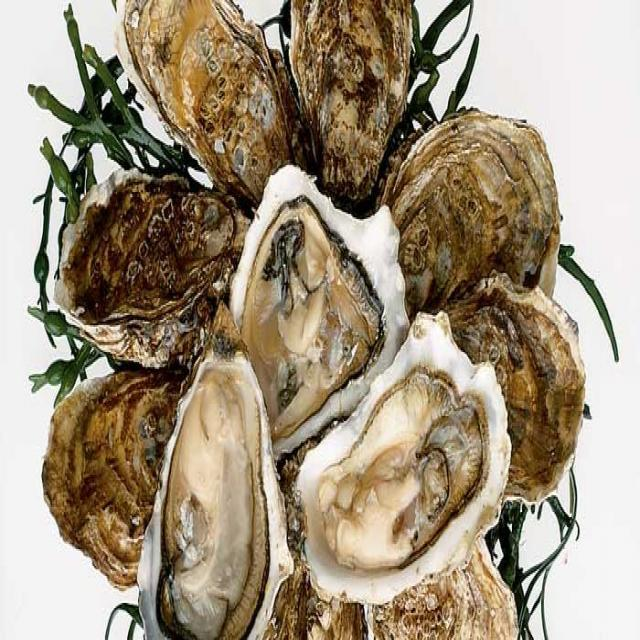Oyster- Indeterminate: (114, 0, 320, 210), (381, 110, 563, 297), (441, 274, 587, 506), (41, 367, 189, 591), (283, 0, 416, 204), (346, 541, 552, 640), (260, 547, 364, 640)
Oyster-Closed: (53, 177, 252, 367)
Oyster-Open: (294, 317, 511, 609), (231, 166, 408, 468), (155, 359, 294, 640)
